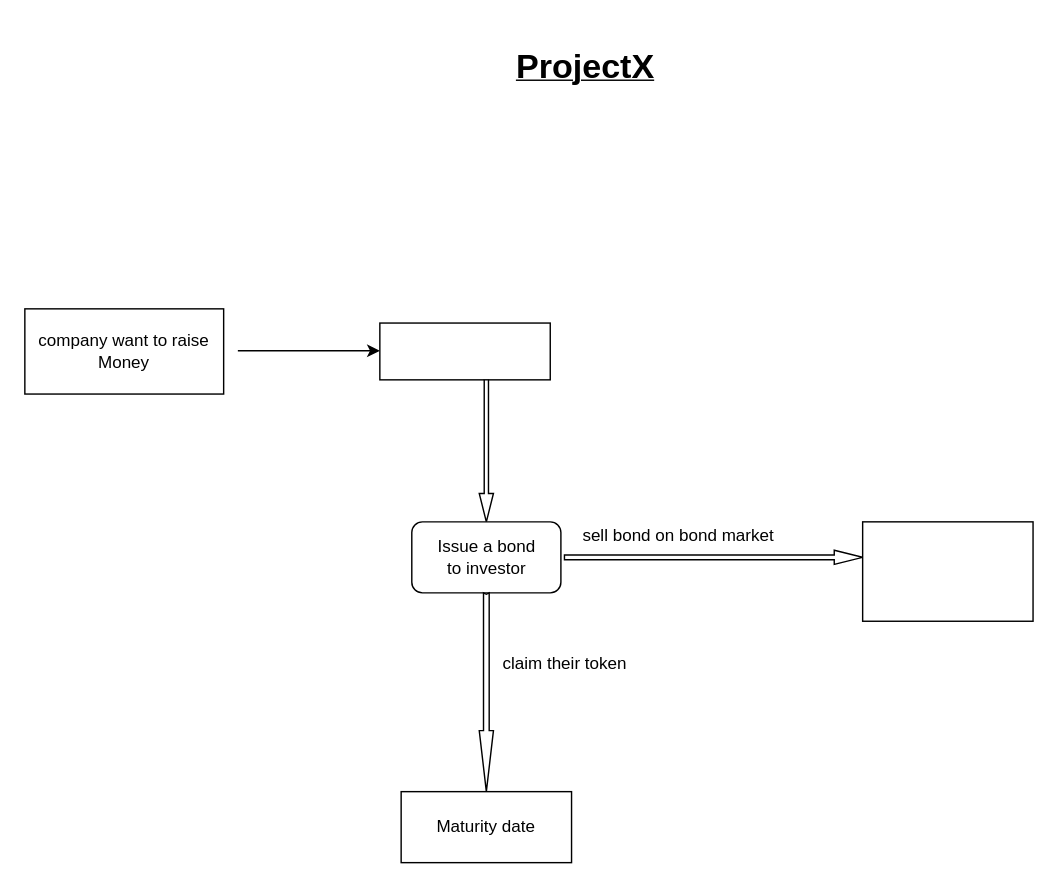
Some shapes in this 1058 by 888 pixel diagram are drawn without their labels. Here are the shapes that lost their labels. From the top down, the centre of each, then its label:
pixel 464 351: CrowdX
pixel 947 570: Bond Market mbondX
